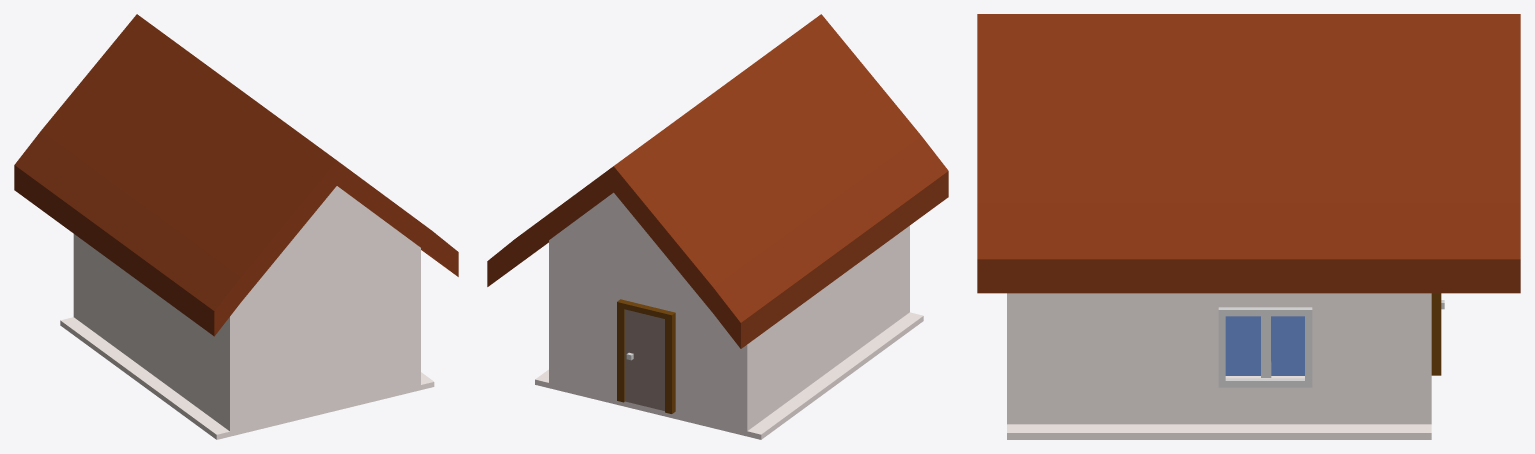
Rendered from House.fbx.
3 views of the same model, side by side, from view 1: azimuth 30°, elevation 25°; view 2: azimuth 150°, elevation 25°; view 3: azimuth 270°, elevation 25° (orthographic). The views are drawn at different scales.
Visible parts, largest first — view 1: House; view 2: House, Door, Door frame; view 3: House, Door frame.
Boxes of the visible parts, box(x1,y1,x2,y2) form: House: box(14, 14, 458, 439); House: box(487, 14, 948, 439); Door: box(624, 309, 664, 410); Door frame: box(617, 299, 675, 413); House: box(977, 14, 1520, 439); Door frame: box(1431, 293, 1441, 375).
Bounding box in the file's own units: 920 × 939 × 1305.
